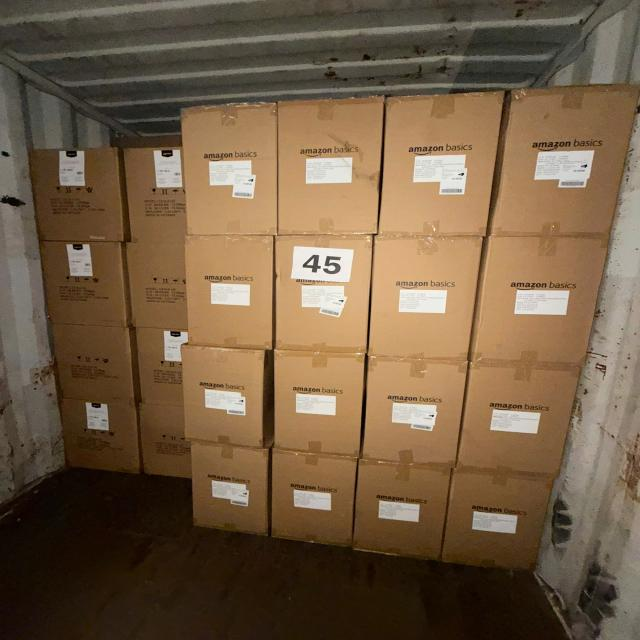Carton: (502, 85, 638, 234), (476, 234, 610, 365), (383, 91, 495, 236), (280, 95, 382, 235), (371, 235, 480, 360), (460, 364, 577, 474), (181, 102, 277, 234), (364, 358, 468, 469), (277, 235, 374, 354), (440, 473, 550, 575), (187, 233, 274, 350), (273, 346, 367, 454), (356, 457, 452, 561), (181, 342, 266, 449), (272, 450, 358, 550), (191, 443, 270, 538)
